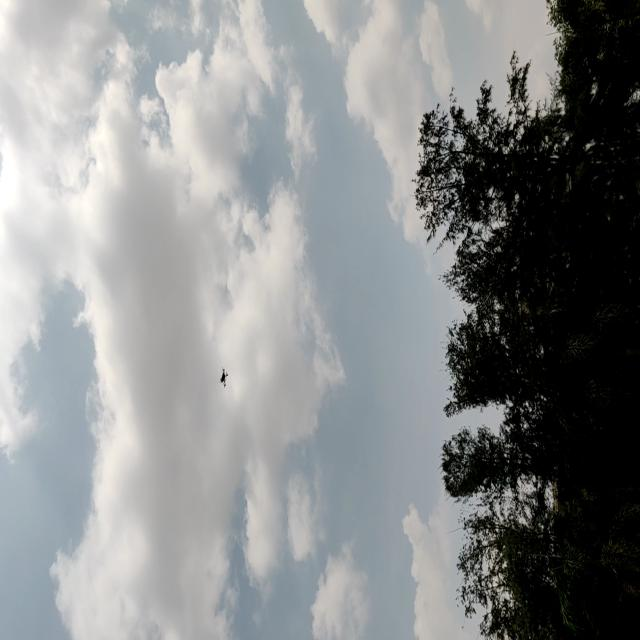drone: (214, 365, 234, 394)
